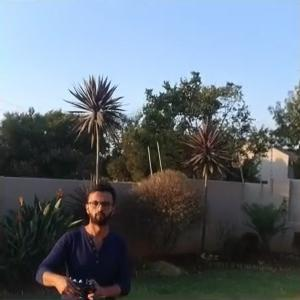follow: (30, 173, 135, 299)
